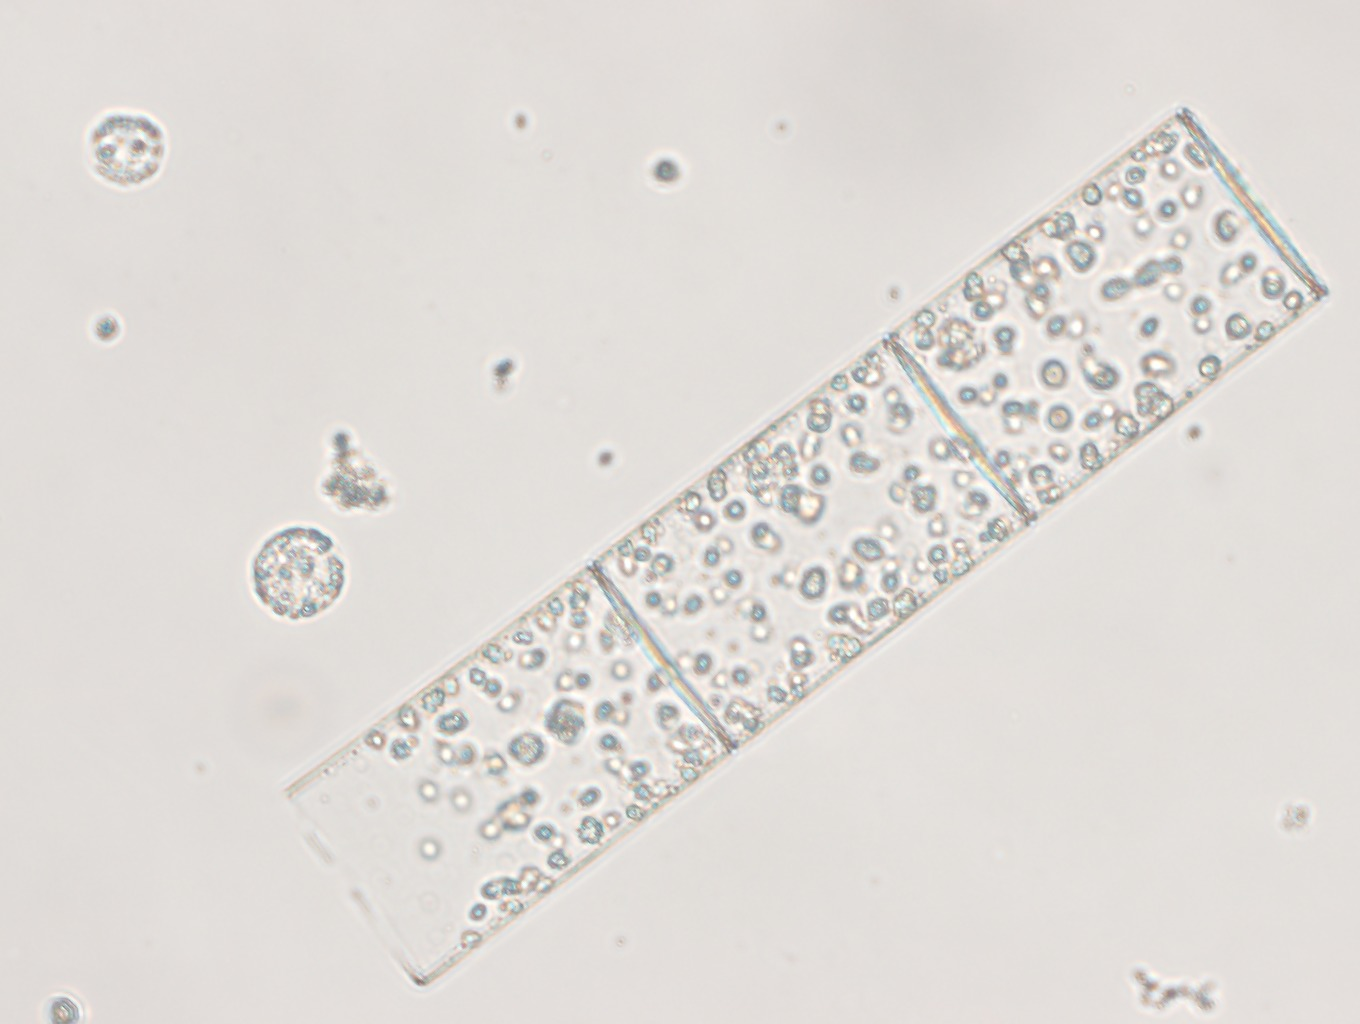guinardia flaccida: (287, 100, 1332, 985)
